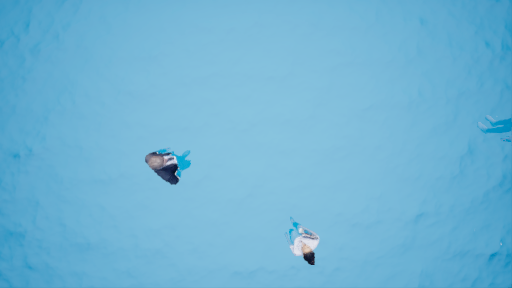person: (277, 219, 326, 267), (144, 145, 196, 187)
